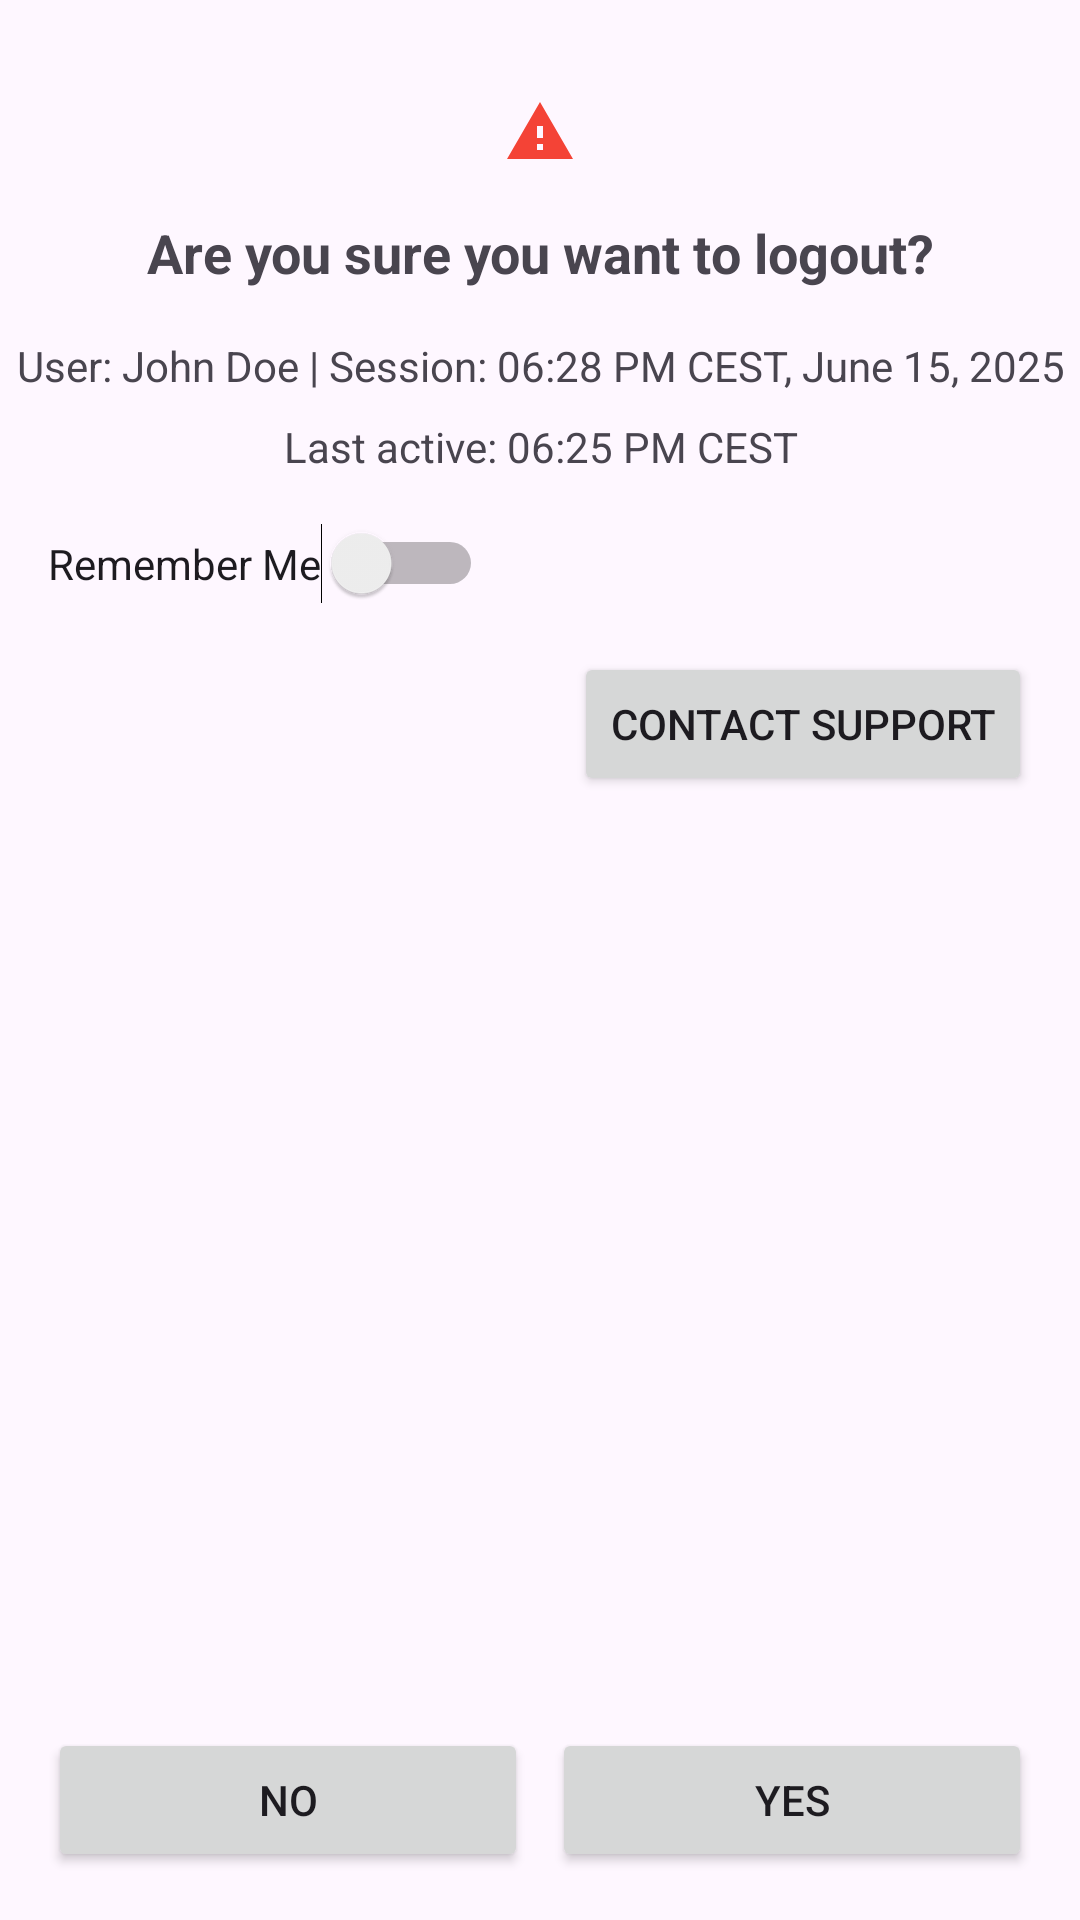

Where icons sit on this 1080×1920 app screen, as (left=x1, top=y1, right=x2, bottom=y2):
Warning Icon: (left=507, top=102, right=573, bottom=159)
